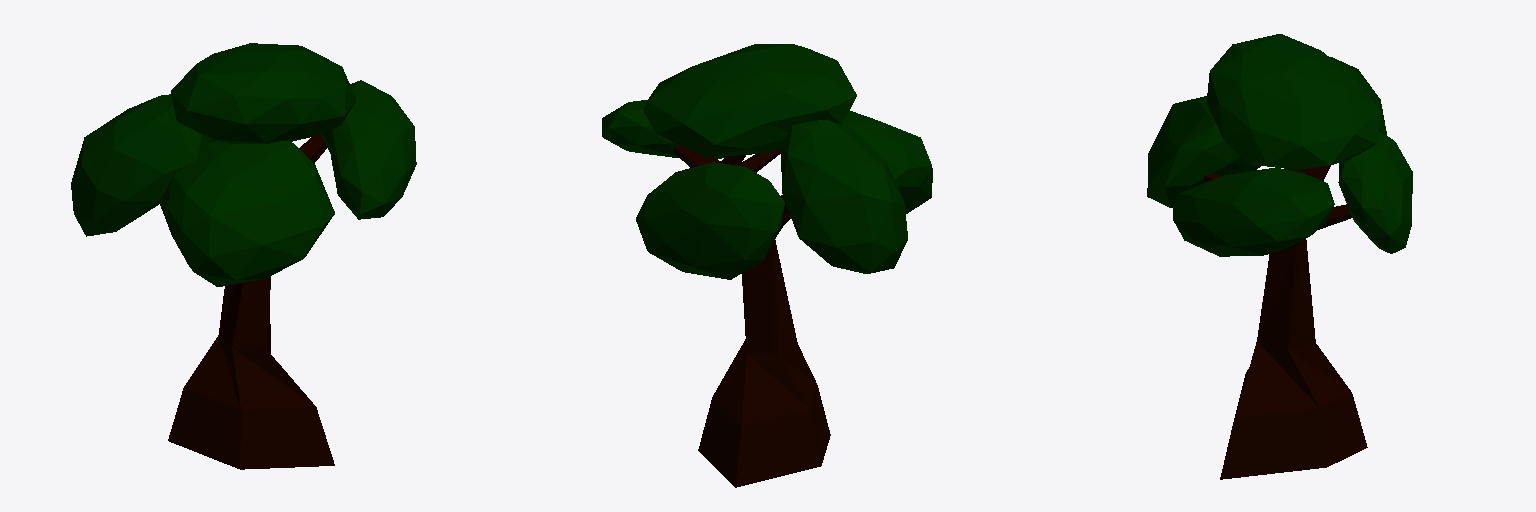
The model's file is Tree_1.obj.
3 renders of one model, left to right at view 1: azimuth 30°, elevation 25°; view 2: azimuth 150°, elevation 25°; view 3: azimuth 270°, elevation 25°, orthographic.
Parts seen in each view (by area): view 1: Icosphere.003, Cylinder; view 2: Icosphere.003, Cylinder; view 3: Icosphere.003, Cylinder.
Boxes of the visible parts, x1,y1,x2,y2 form: Icosphere.003: [71, 43, 416, 286]; Cylinder: [168, 134, 334, 469]; Icosphere.003: [602, 44, 932, 279]; Cylinder: [674, 146, 830, 487]; Icosphere.003: [1147, 34, 1412, 256]; Cylinder: [1202, 166, 1367, 479].
Size of the model in its own units: 12.78 by 15.68 by 9.43.